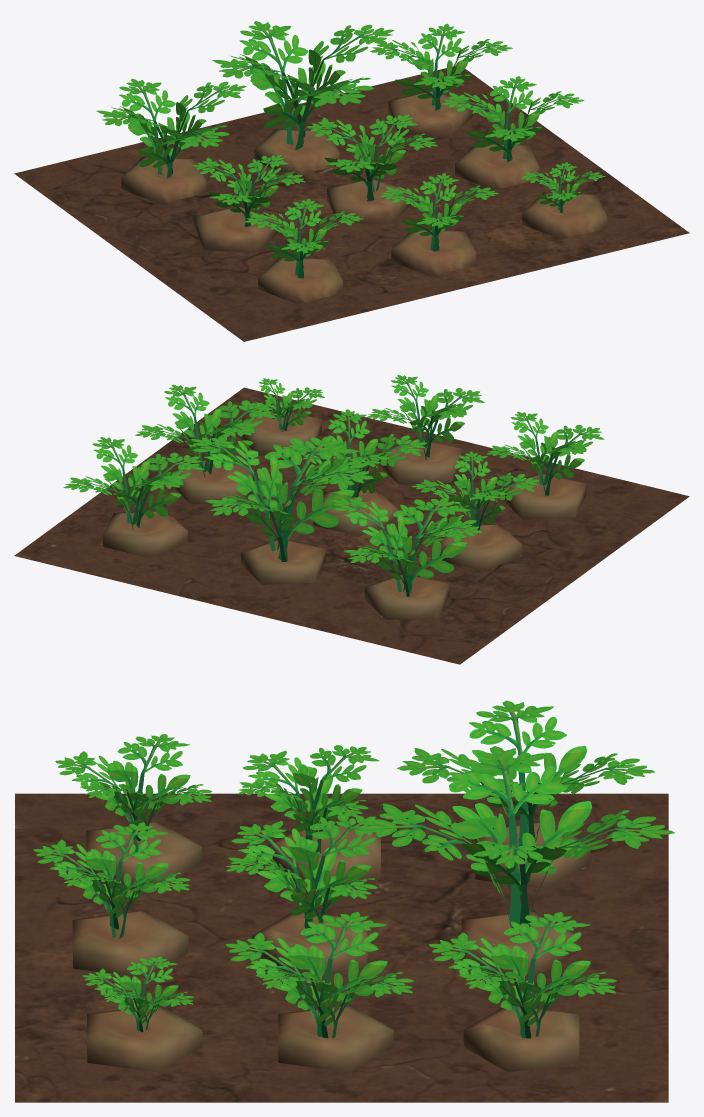
Rendered from ARC0710088.fbx.
3 views of the same model, one above another, from view 1: azimuth 30°, elevation 25°; view 2: azimuth 150°, elevation 25°; view 3: azimuth 270°, elevation 25° (orthographic). The views are drawn at different scales.
Parts seen in each view (by area): view 1: smARC0710088; view 2: smARC0710088; view 3: smARC0710088.
Boxes of the visible parts, x1,y1,x2,y2 form: smARC0710088: (14, 21, 689, 341); smARC0710088: (14, 375, 689, 664); smARC0710088: (15, 700, 674, 1102).
Bounding box in the file's own units: 205 × 50.57 × 190.
1 material, 1 textured.
